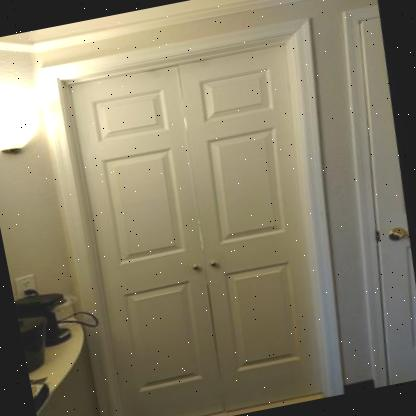door: (19, 7, 386, 416)
